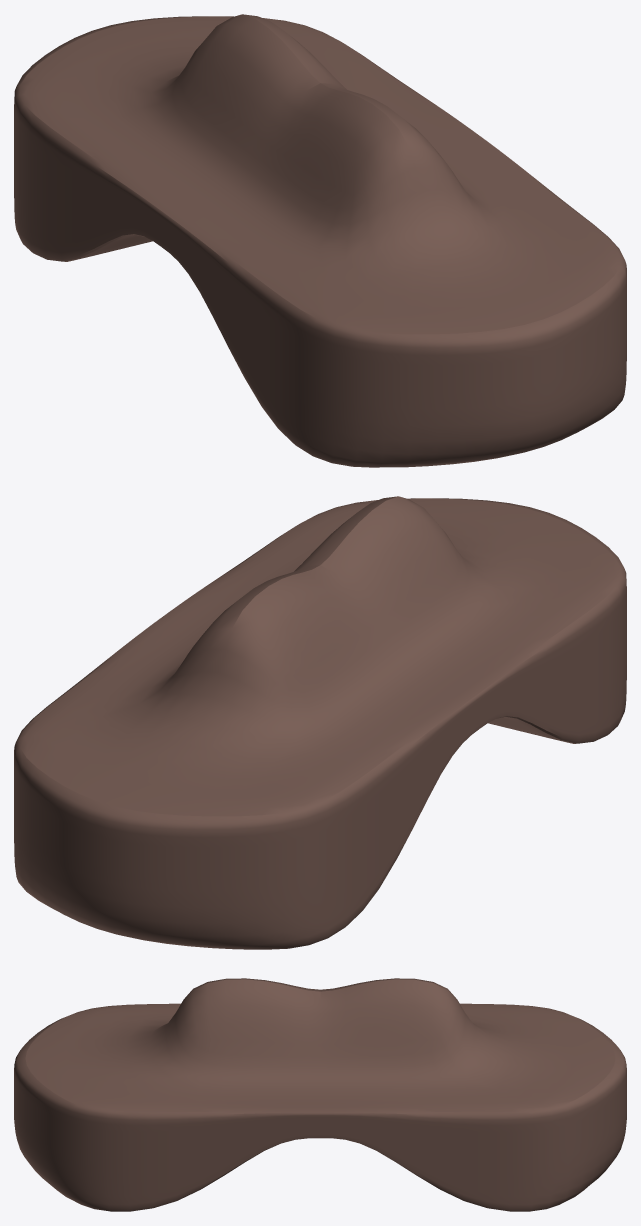
3 renders of one model, top to bottom at view 1: azimuth 30°, elevation 25°; view 2: azimuth 150°, elevation 25°; view 3: azimuth 270°, elevation 25°, orthographic. The views are drawn at different scales.
Visible parts, largest first — view 1: Cube; view 2: Cube; view 3: Cube.
Part boxes in pixels (x1,y1,x2,y2): Cube: (14,14,626,467); Cube: (14,496,626,949); Cube: (14,978,626,1211).
Size of the model in its own units: 466 by 347 by 1073.
